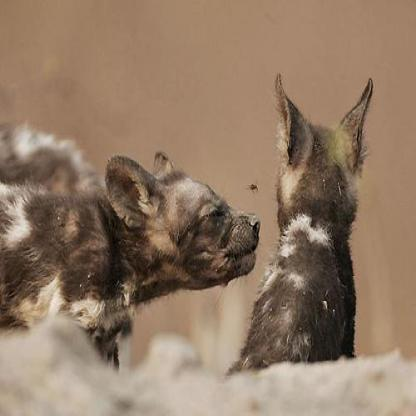African_hunting_dog: (0, 146, 260, 381), (224, 67, 375, 371)
